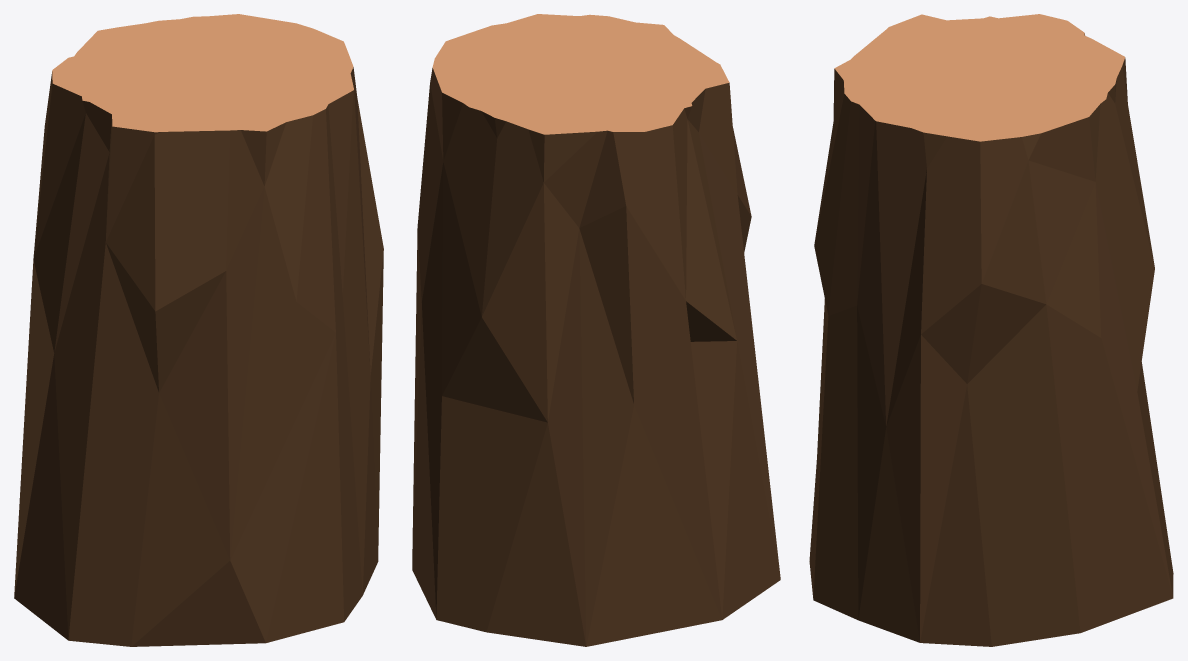
Rendered from Tree_Growing.fbx.
The picture shows the model from 3 angles, left to right: view 1: azimuth 30°, elevation 25°; view 2: azimuth 150°, elevation 25°; view 3: azimuth 270°, elevation 25°; orthographic projection. The views are drawn at different scales.
Parts seen in each view (by area): view 1: SM_Tree; view 2: SM_Tree; view 3: SM_Tree.
Boxes of the visible parts, x1,y1,x2,y2 form: SM_Tree: [14, 14, 383, 646]; SM_Tree: [412, 14, 780, 646]; SM_Tree: [809, 14, 1173, 646].
Bounding box in the file's own units: 212 × 310 × 205.
